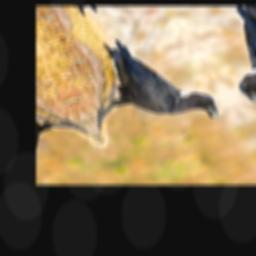Crow: (51, 23, 225, 152)
